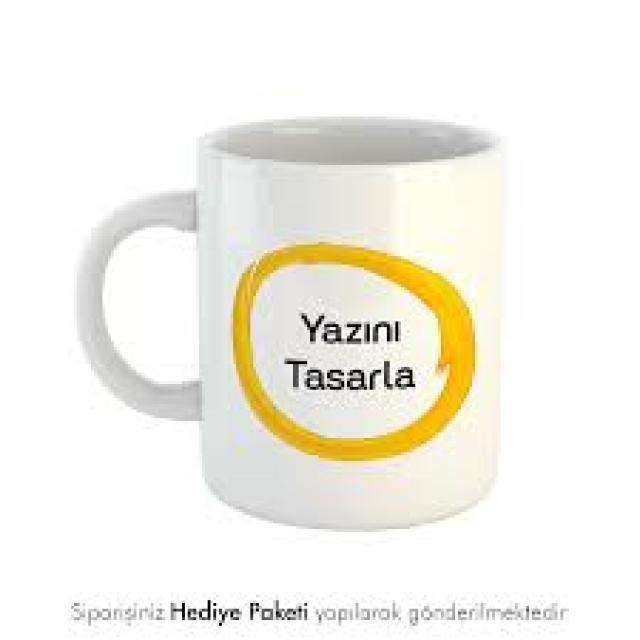taza: (74, 117, 507, 527)
